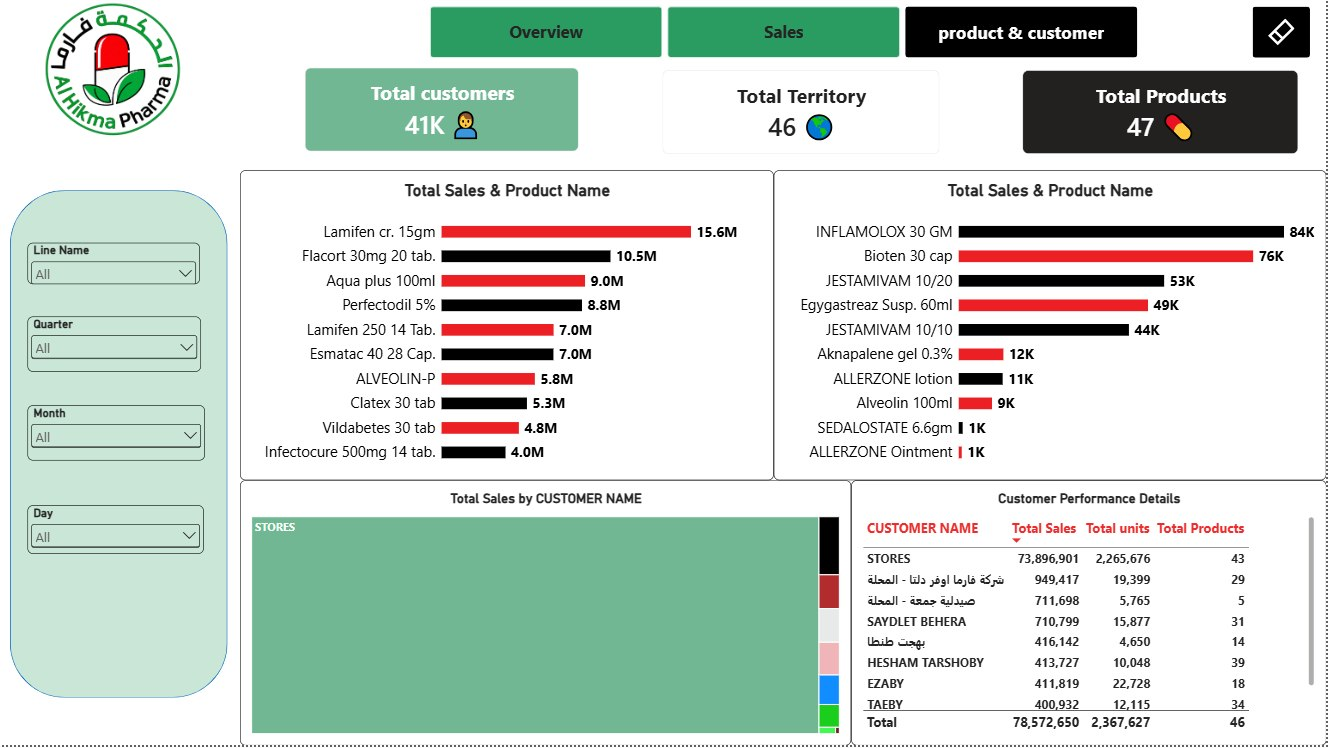

Layout of this report page (visuals, bound fields, positions):
{"tool":"powerbi","page":{"name":"product & customer","canvas":[1920,1080],"ordinal":2},"visuals":[{"type":"cardVisual","fields":{"Data":["measure.Total Products"]},"box":[1480.3,103.2,399.9,121.2],"z":0},{"type":"clusteredBarChart","title":"Total Sales & Product Name","fields":{"Category":["Table3.EGPI Product Name"],"Y":["measure.Total Sales"]},"box":[1120.2,247.9,799.9,448.8],"z":1000},{"type":"clusteredBarChart","title":"Total Sales & Product Name","fields":{"Category":["Table3.EGPI Product Name"],"Y":["measure.Total Sales"]},"box":[347.5,247.9,772.7,448.8],"z":2000},{"type":"cardVisual","fields":{"Data":["measure.Total customers"]},"box":[441.6,99.5,396.3,121.2],"z":3000},{"type":"cardVisual","fields":{"Data":["measure.Total Territory"]},"box":[959.1,103.2,401.7,121.2],"z":4000},{"type":"image","box":[52.5,5.4,222.6,195.4],"z":5000},{"type":"pageNavigator","box":[622.5,10.9,1026.1,74.2],"z":6000},{"type":"actionButton","box":[1813.3,10.9,83.2,74.2],"z":7000},{"type":"treemap","fields":{"Group":["Table3.CUSTOMER NAME"],"Values":["measure.Total Sales"]},"box":[347.5,696.7,884.9,383.6],"z":8000},{"type":"shape","box":[14.1,276.2,314.9,734.7],"z":9000},{"type":"slicer","fields":{"Values":["Table3.Month.Variation.Date Hierarchy.Month"]},"box":[39.5,587.4,257,79.6],"z":10000},{"type":"slicer","fields":{"Values":["Table3.Month.Variation.Date Hierarchy.Quarter"]},"box":[39.5,458.9,251.5,79.6],"z":11000},{"type":"slicer","fields":{"Values":["Table3.Month.Variation.Date Hierarchy.Day"]},"box":[39.5,732.2,255.2,70.6],"z":12000},{"type":"slicer","fields":{"Values":["Table3.Line Name"]},"box":[39.5,352.2,249.7,59.7],"z":13000},{"type":"tableEx","title":"Customer Performance Details","fields":{"Values":["Table3.CUSTOMER NAME","measure.Total Sales","measure.Total units","measure.Total Products"]},"box":[1232.4,696.7,687.7,383.6],"z":14000}]}

Visuals, with their boxes in screenshot pixels (x1, y1, x2, y2), scaled from the page's 1920x1080 canvas onto the 1328x748 screenshot:
cardVisual - measure.Total Products: bbox=(1024, 71, 1300, 155)
"Total Sales & Product Name" clusteredBarChart: bbox=(775, 172, 1327, 483)
"Total Sales & Product Name" clusteredBarChart: bbox=(240, 172, 775, 483)
cardVisual - measure.Total customers: bbox=(305, 69, 580, 153)
cardVisual - measure.Total Territory: bbox=(663, 71, 941, 155)
image: bbox=(36, 4, 190, 139)
pageNavigator: bbox=(431, 8, 1140, 59)
actionButton: bbox=(1254, 8, 1312, 59)
treemap - Table3.CUSTOMER NAME x measure.Total Sales: bbox=(240, 483, 852, 747)
shape: bbox=(10, 191, 228, 700)
slicer - Table3.Month.Variation.Date Hierarchy.Month: bbox=(27, 407, 205, 462)
slicer - Table3.Month.Variation.Date Hierarchy.Quarter: bbox=(27, 318, 201, 373)
slicer - Table3.Month.Variation.Date Hierarchy.Day: bbox=(27, 507, 204, 556)
slicer - Table3.Line Name: bbox=(27, 244, 200, 285)
"Customer Performance Details" tableEx: bbox=(852, 483, 1327, 747)
